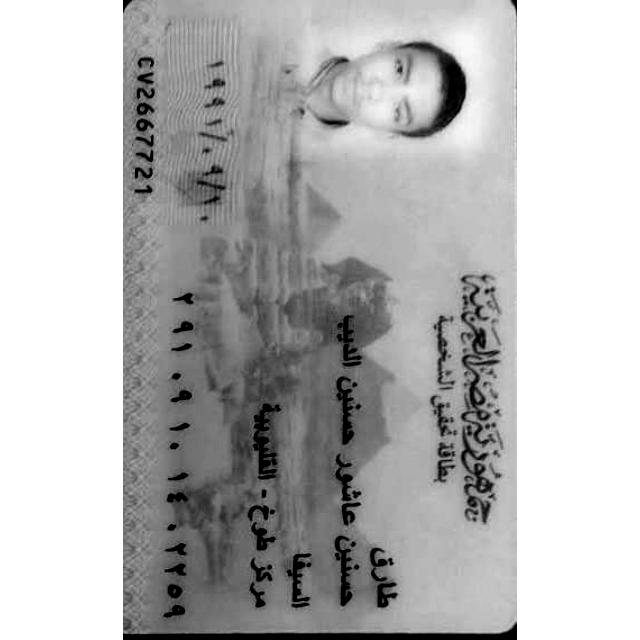front: (123, 0, 517, 639)
